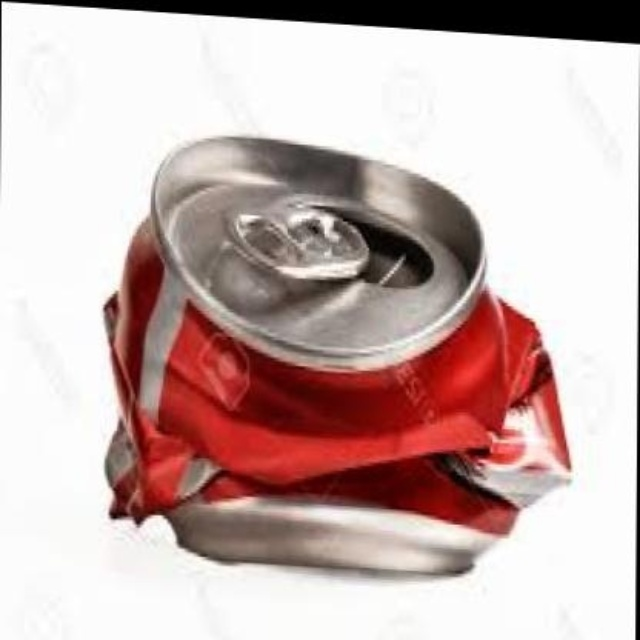trash: (105, 137, 569, 572)
